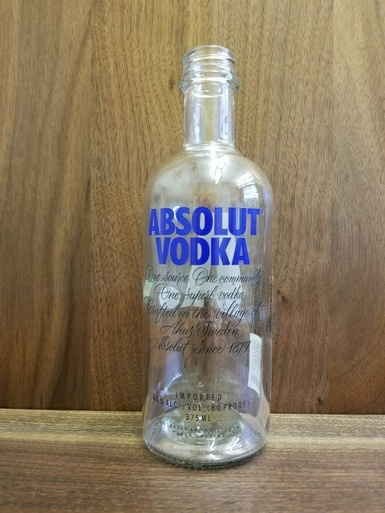emptybottle: (144, 46, 272, 467)
